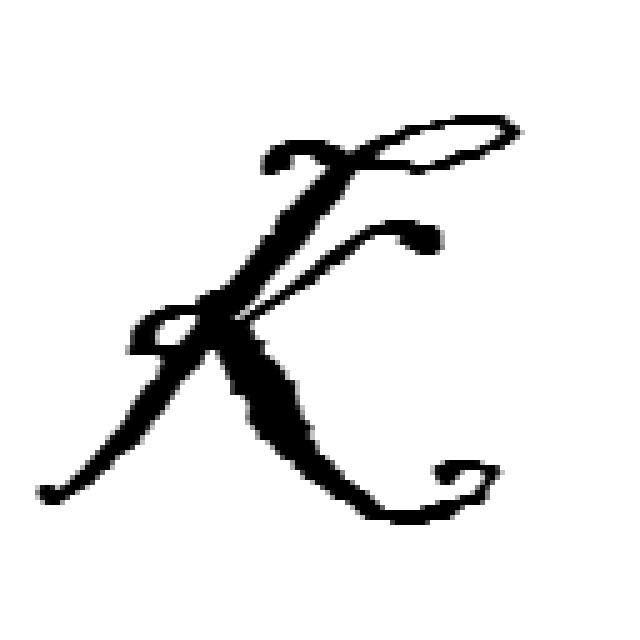K: (121, 147, 449, 507)
